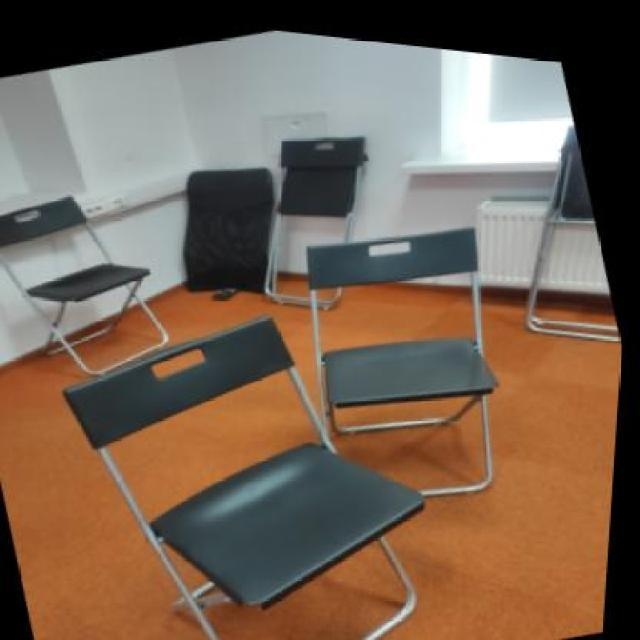chair: (25, 256, 472, 638), (266, 179, 539, 528), (0, 149, 215, 415)
